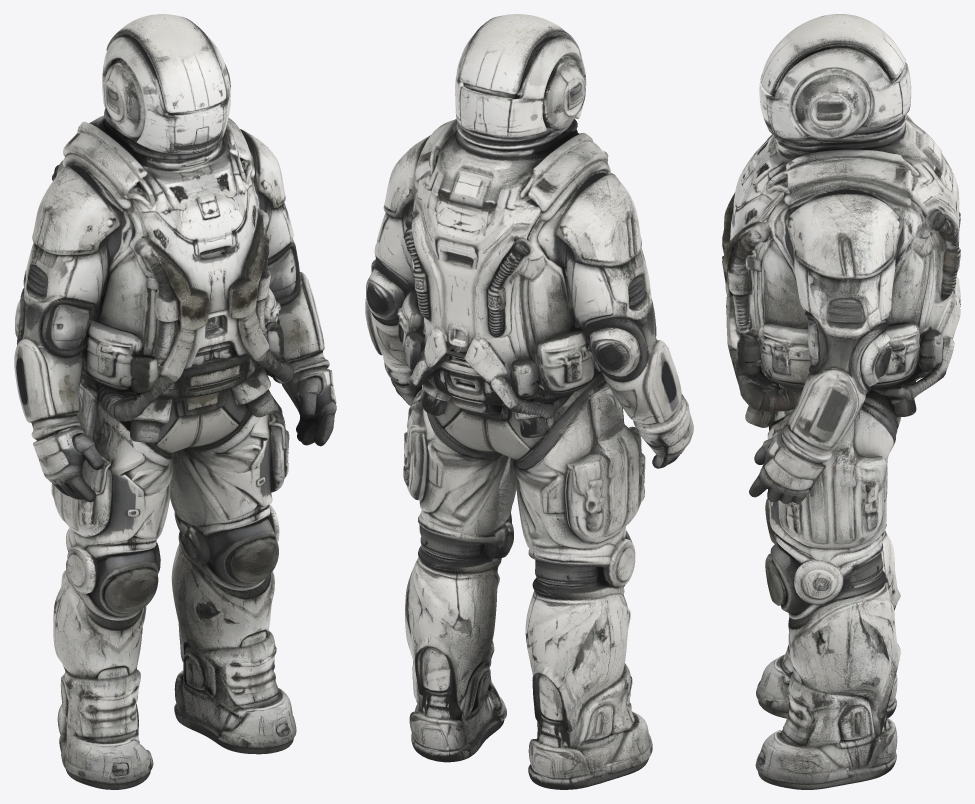
File: astronaut_suit.glb
3 renders of one model, left to right at view 1: azimuth 30°, elevation 25°; view 2: azimuth 150°, elevation 25°; view 3: azimuth 270°, elevation 25°, orthographic. The views are drawn at different scales.
Size of the model in its own units: 0.8065 by 1.9 by 0.5715.
Materials: 1 (1 with a texture image).
